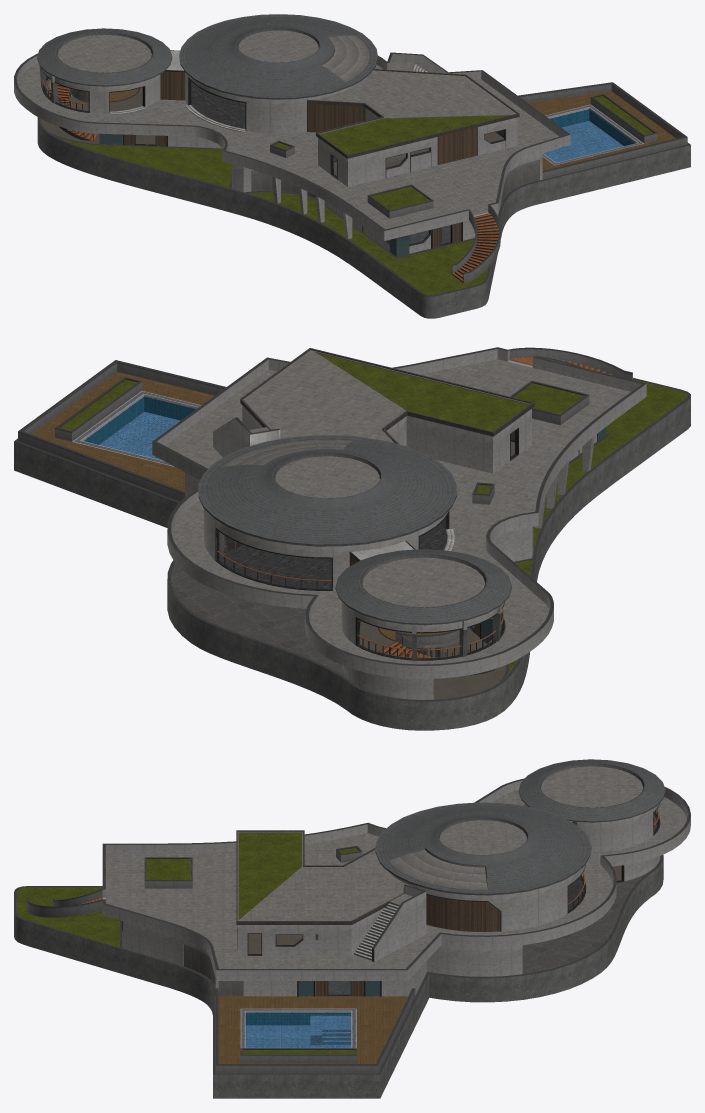
File: Luxury_House.glb
3 views of the same model, one above another, from view 1: azimuth 30°, elevation 25°; view 2: azimuth 150°, elevation 25°; view 3: azimuth 270°, elevation 25° (orthographic). The views are drawn at different scales.
Parts seen in each view (by area): view 1: Luxury House; view 2: Luxury House; view 3: Luxury House.
Boxes of the visible parts, x1,y1,x2,y2 form: Luxury House: [14, 14, 690, 318]; Luxury House: [14, 347, 690, 730]; Luxury House: [14, 759, 690, 1098].
Size of the model in its own units: 58.86 by 11.58 by 64.73.
1 material, 1 textured.
